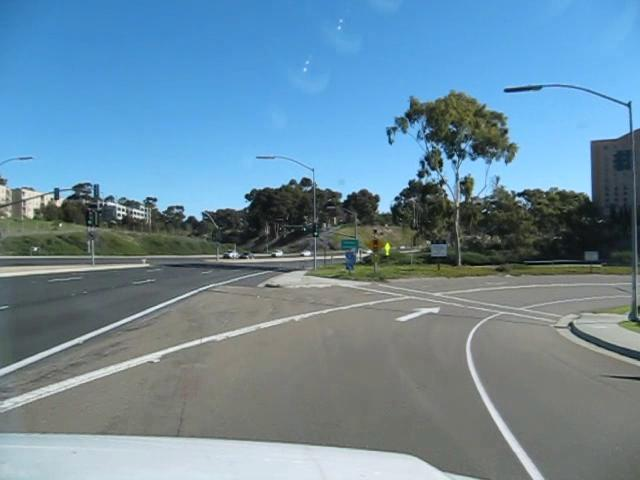signalAhead: (365, 235, 385, 254)
